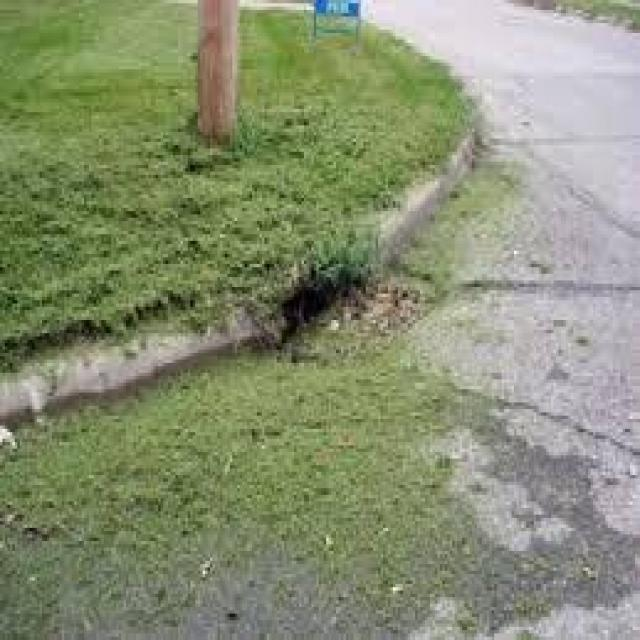curb: (1, 302, 314, 406), (370, 136, 490, 249)
